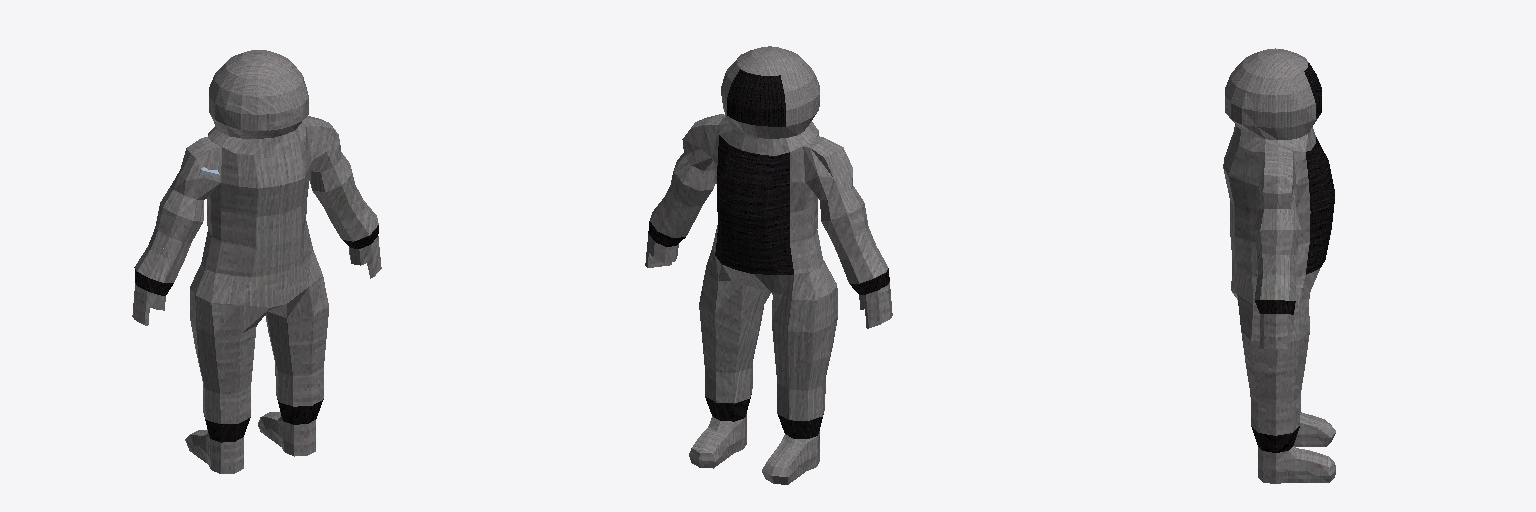
3 renders of one model, left to right at view 1: azimuth 30°, elevation 25°; view 2: azimuth 150°, elevation 25°; view 3: azimuth 270°, elevation 25°, orthographic.
Parts seen in each view (by area): view 1: Cylinder001; view 2: Cylinder001; view 3: Cylinder001.
Boxes of the visible parts, box(x1,y1,x2,y2) form: Cylinder001: box(132, 50, 381, 473); Cylinder001: box(645, 46, 892, 484); Cylinder001: box(1223, 48, 1335, 483).
Size of the model in its own units: 24.37 by 38.76 by 9.79.
Materials: 2 (1 with a texture image).